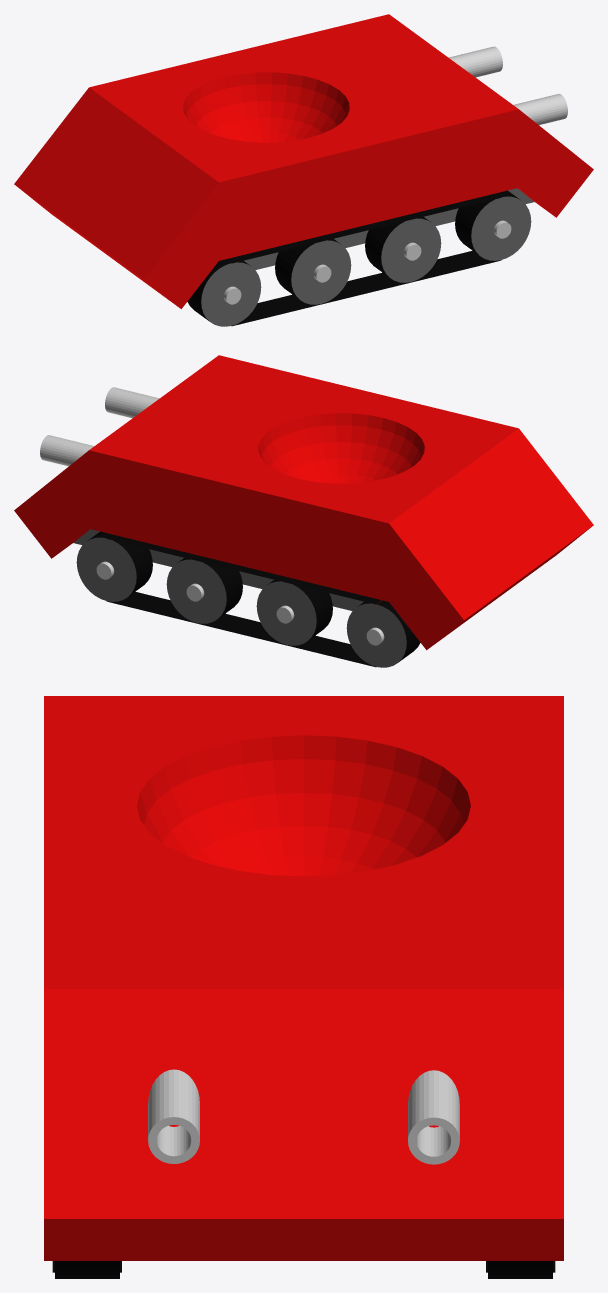
Rendered from Body_Red.fbx.
The picture shows the model from 3 angles, top to bottom: view 1: azimuth 30°, elevation 25°; view 2: azimuth 150°, elevation 25°; view 3: azimuth 270°, elevation 25°; orthographic projection. The views are drawn at different scales.
Parts seen in each view (by area): view 1: Cube; view 2: Cube; view 3: Cube.
Boxes of the visible parts, box(x1,y1,x2,y2) form: Cube: box(14, 14, 593, 326); Cube: box(14, 355, 593, 667); Cube: box(44, 696, 563, 1278).
Size of the model in its own units: 600 by 190 by 300.
